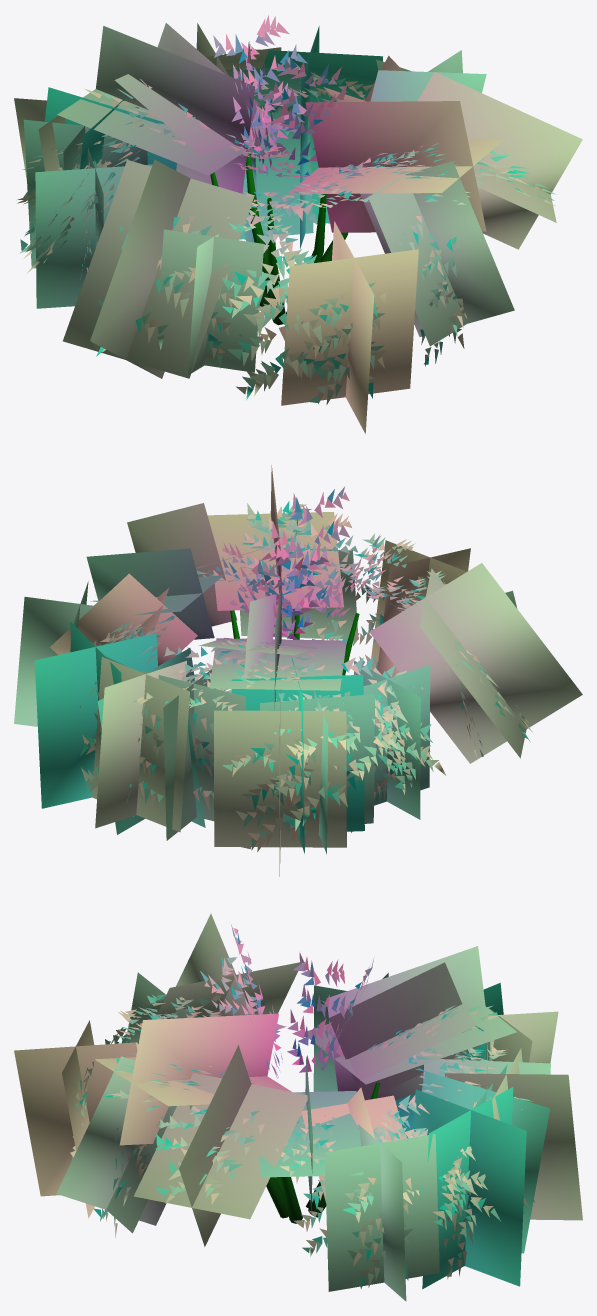
File: scrub_1.glb
3 renders of one model, top to bottom at view 1: azimuth 30°, elevation 25°; view 2: azimuth 150°, elevation 25°; view 3: azimuth 270°, elevation 25°, orthographic. The views are drawn at different scales.
Parts seen in each view (by area): view 1: mid, near; view 2: mid, near; view 3: mid, near.
Part boxes in pixels (bbox=[...]): mid: bbox=[14, 23, 582, 433]; near: bbox=[17, 15, 556, 404]; mid: bbox=[14, 465, 582, 876]; near: bbox=[79, 486, 532, 851]; mid: bbox=[14, 913, 582, 1301]; near: bbox=[70, 924, 534, 1288].
Bounding box in the file's own units: 4.03 × 2.33 × 4.14.
